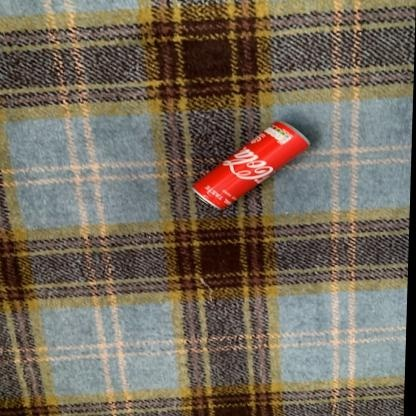trash: (193, 122, 309, 207)
